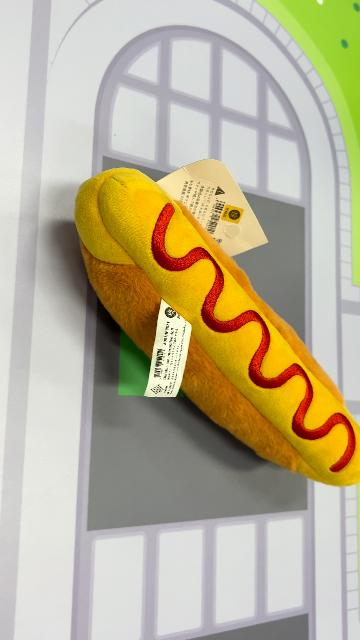hotdog: (74, 166, 358, 488)
